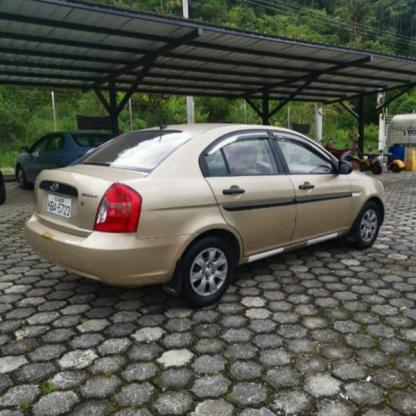Placa: (42, 192, 76, 220)
